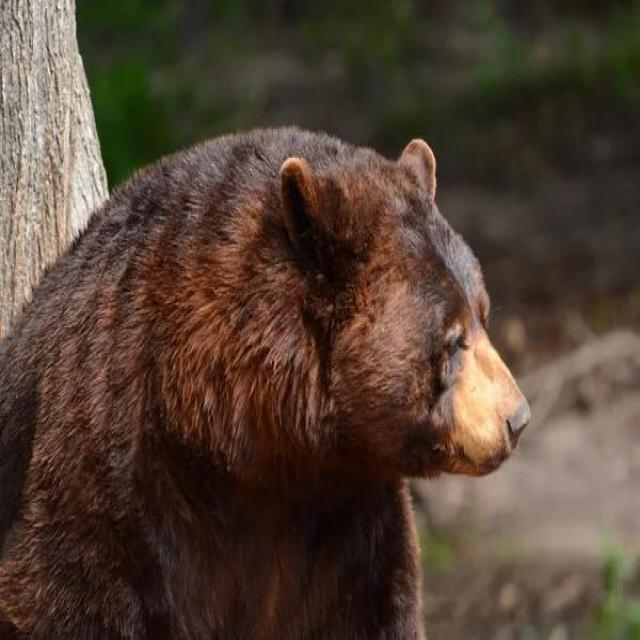Bear: (0, 127, 532, 640)
